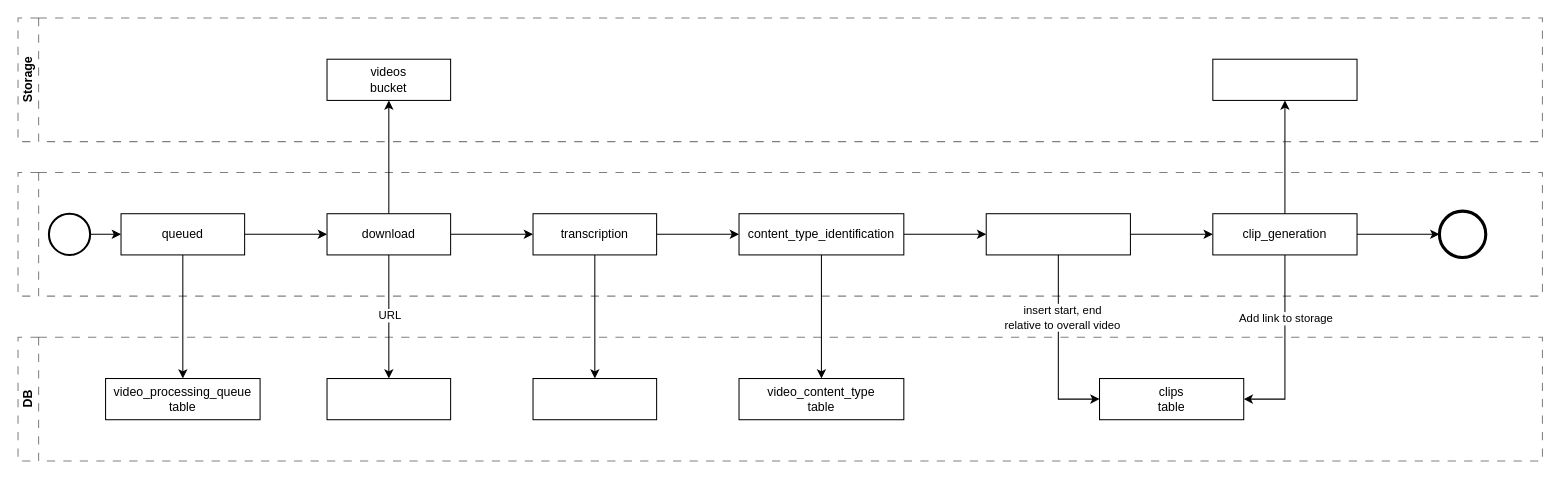
Image size: 1560x479. Some labels were removed from this diagram. The shapes that lost their labels are listed below. From the top down, each one's box as (x1, y1, x2, y2) in pixels, then its label:
(1212, 58, 1357, 100): clips bucket
(17, 171, 1542, 296): Pipeline steps
(985, 213, 1130, 255): insightful_clip_lookup
(326, 377, 451, 420): videos table
(532, 377, 657, 420): video_transcripts table
